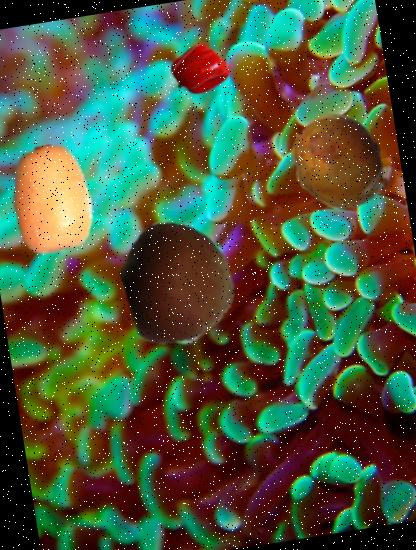Kumquats: (0, 136, 115, 263)
Nut: (107, 210, 248, 351)
Onion: (280, 104, 396, 221)
Pepper: (169, 38, 233, 102)
